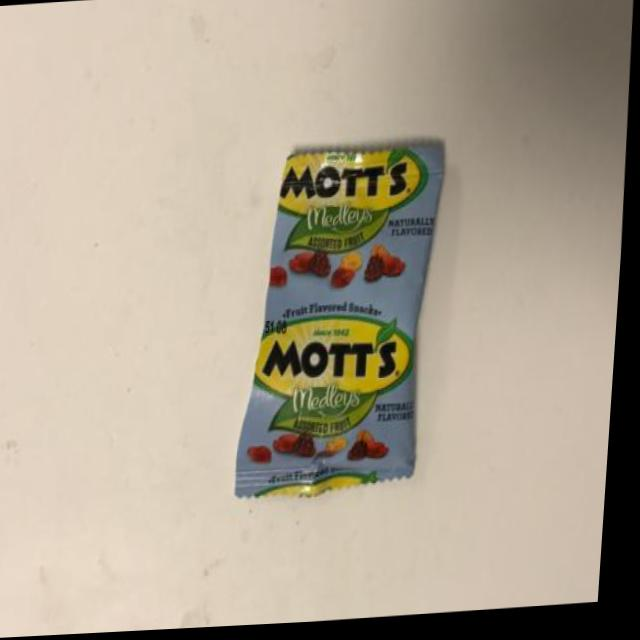trash: (183, 88, 521, 609)
